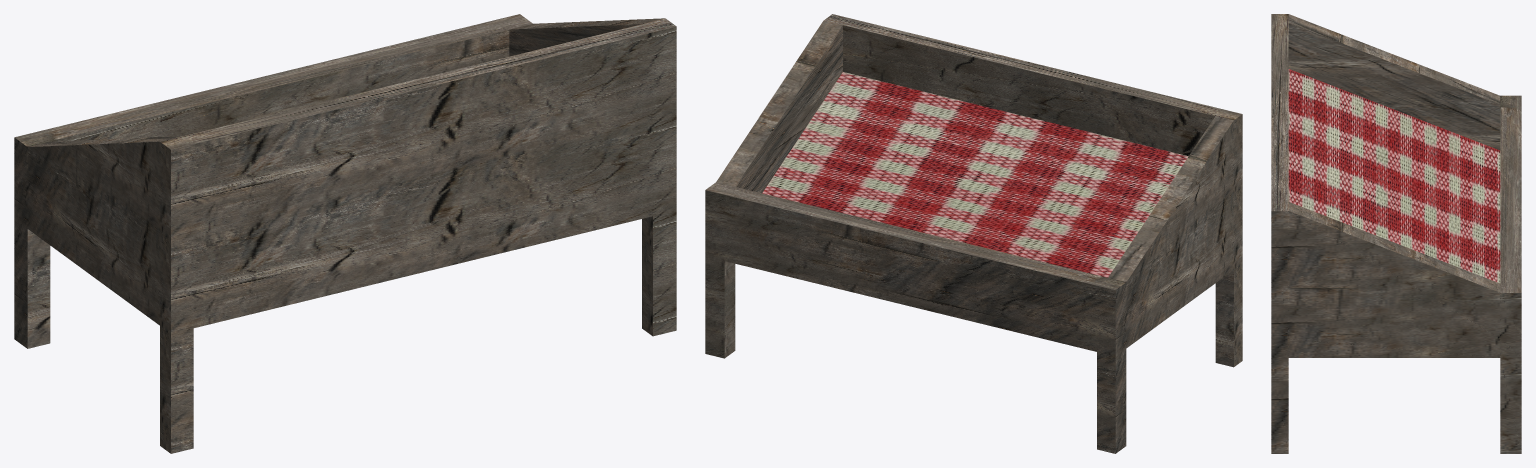
The model's file is stale.glb.
The picture shows the model from 3 angles, left to right: view 1: azimuth 30°, elevation 25°; view 2: azimuth 150°, elevation 25°; view 3: azimuth 270°, elevation 25°; orthographic projection. The views are drawn at different scales.
Parts seen in each view (by area): view 1: Cube; view 2: Cube; view 3: Cube.
Part boxes in pixels (bbox=[...]): Cube: bbox=[14, 14, 676, 453]; Cube: bbox=[705, 14, 1242, 453]; Cube: bbox=[1271, 14, 1521, 453].
Size of the model in its own units: 4.4 by 2.53 by 2.37.
2 materials, 2 textured.
